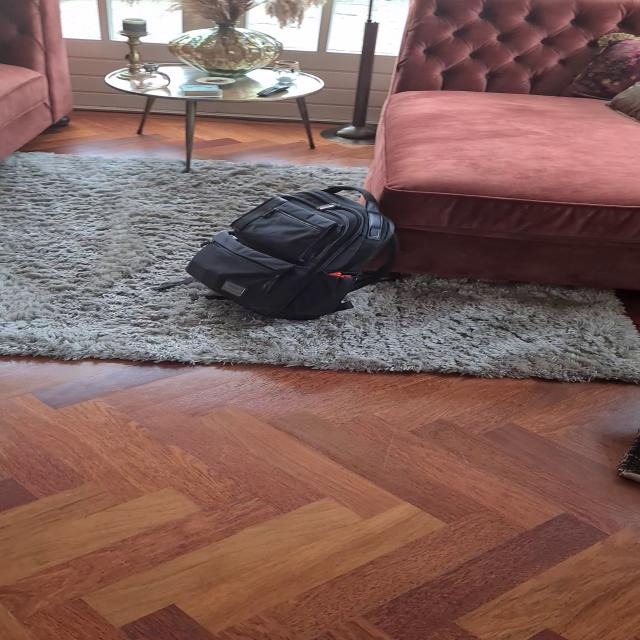backpack: (177, 180, 409, 326)
